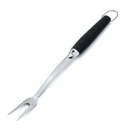Fork: (3, 7, 128, 124)
